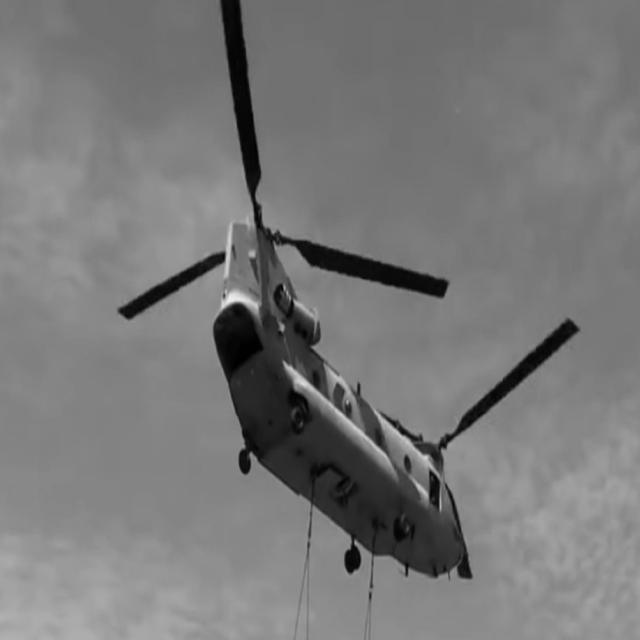Helicopter: (120, 0, 579, 578)
